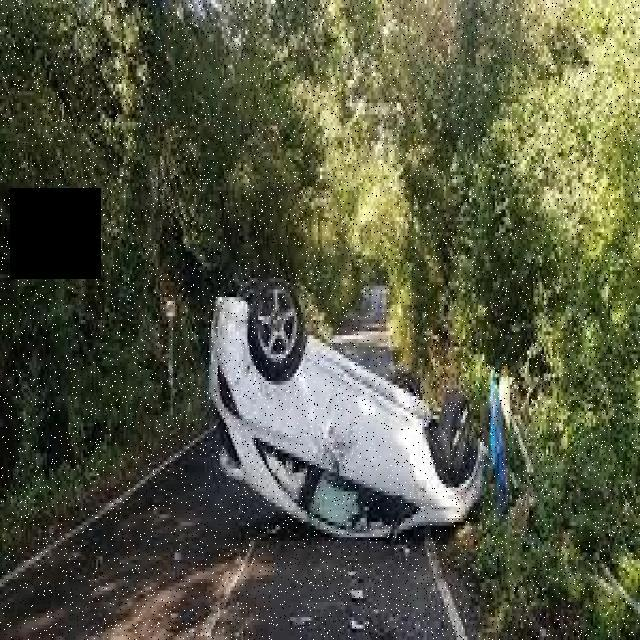severe: (204, 272, 490, 543)
